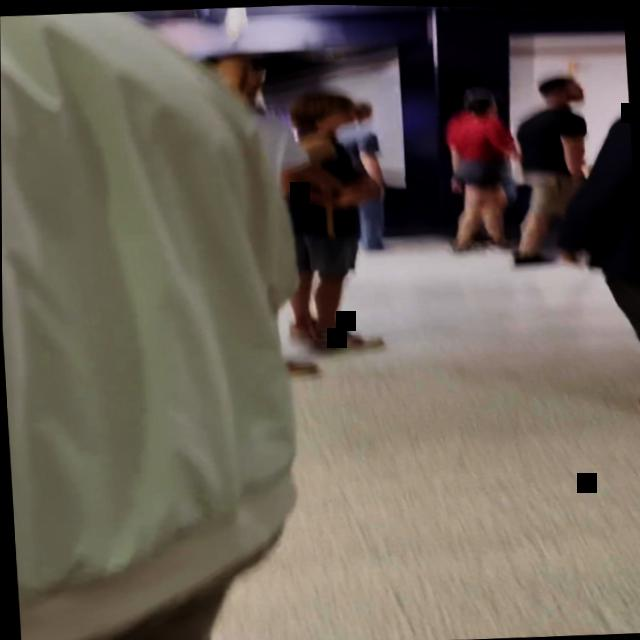NO-Mask: (217, 53, 267, 101), (322, 104, 360, 132), (563, 79, 588, 103)
